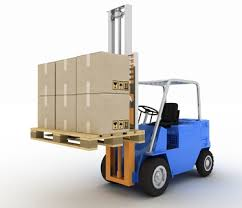box: (99, 94, 131, 133), (101, 51, 129, 95), (77, 49, 100, 94), (76, 95, 99, 131), (55, 55, 75, 96), (55, 95, 77, 130), (37, 60, 55, 96), (37, 96, 55, 128)
pallet: (30, 124, 148, 151)
